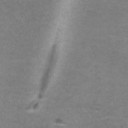finishing roll printing: (32, 43, 58, 110), (55, 117, 64, 125)
